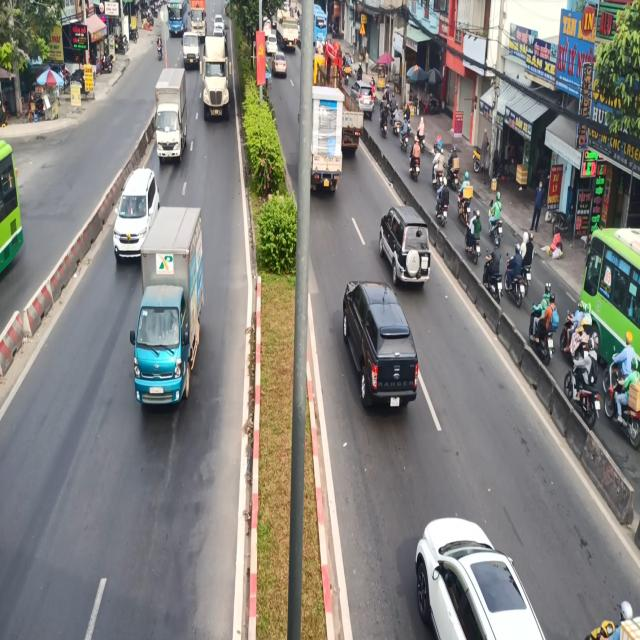car: (339, 268, 425, 424), (381, 199, 434, 288), (111, 166, 156, 259)
truck: (154, 60, 191, 167)
